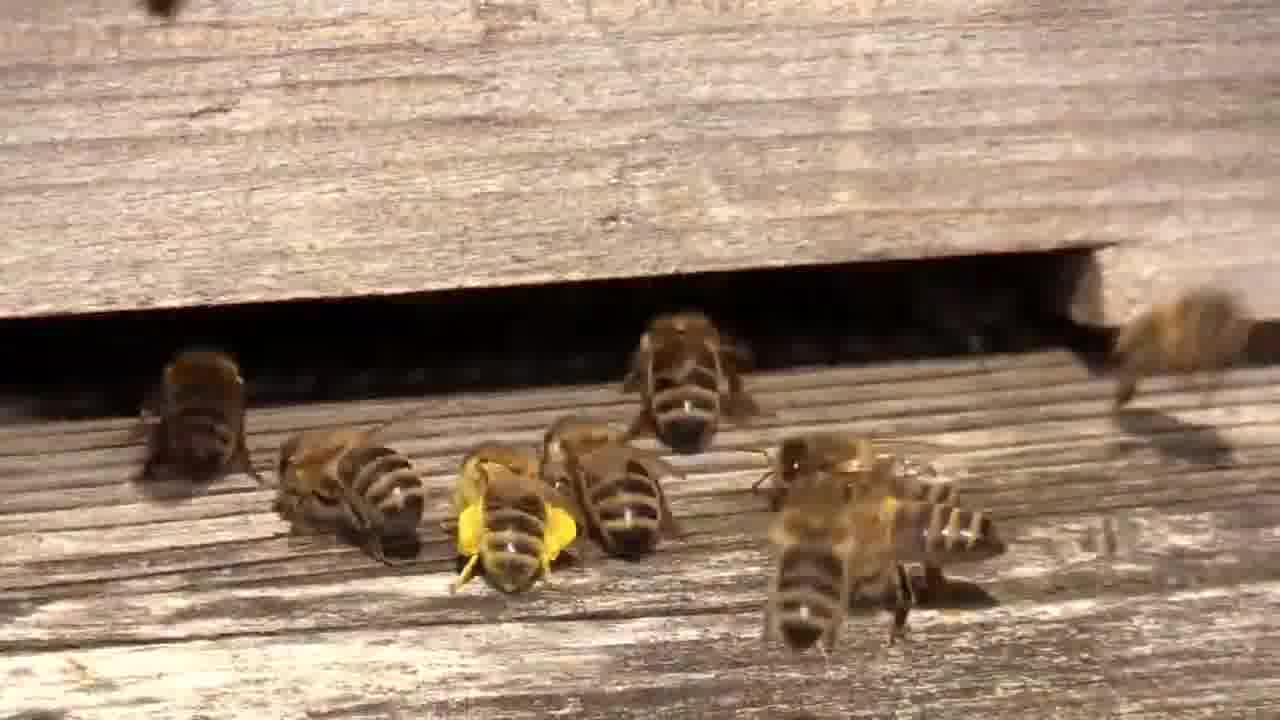pollen: (447, 449, 581, 592)
